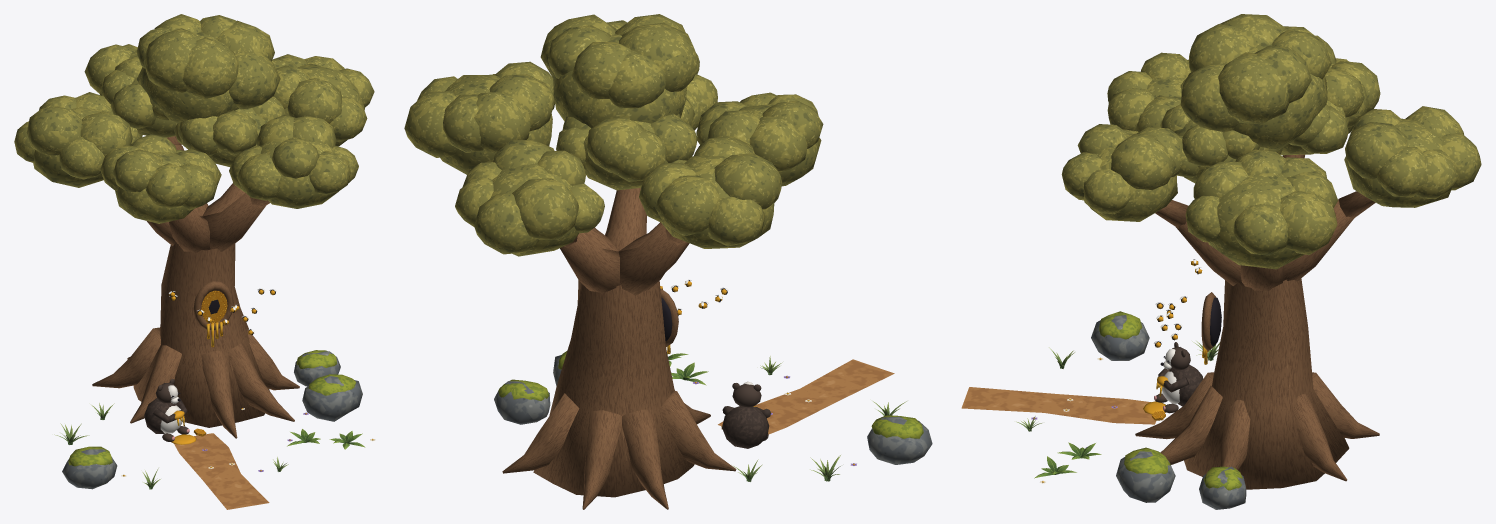
Rendered from ev15_hive.glb.
3 views of the same model, side by side, from view 1: azimuth 30°, elevation 25°; view 2: azimuth 150°, elevation 25°; view 3: azimuth 270°, elevation 25° (orthographic). The views are drawn at different scales.
Visible parts, largest first — view 1: ev15_hive_tree_crown, ev15_hive_tree_trunk, ev15_hive_ground_details, ev15_hive_hive, ev15_hive_animals, ev15_hive_plants; view 2: ev15_hive_tree_crown, ev15_hive_tree_trunk, ev15_hive_ground_details, ev15_hive_animals, ev15_hive_plants, ev15_hive_hive; view 3: ev15_hive_tree_crown, ev15_hive_tree_trunk, ev15_hive_ground_details, ev15_hive_animals, ev15_hive_hive, ev15_hive_plants.
Boxes of the visible parts, x1,y1,x2,y2 form: ev15_hive_tree_crown: (14,14,374,223); ev15_hive_tree_trunk: (92,136,299,438); ev15_hive_ground_details: (62,350,362,509); ev15_hive_hive: (168,281,276,444); ev15_hive_animals: (144,379,189,441); ev15_hive_plants: (54,403,375,489); ev15_hive_tree_crown: (404,14,823,256); ev15_hive_tree_trunk: (502,188,736,509); ev15_hive_ground_details: (494,351,932,464); ev15_hive_animals: (722,381,770,448); ev15_hive_plants: (667,353,906,481); ev15_hive_hive: (660,279,728,429); ev15_hive_tree_crown: (1061,14,1481,269); ev15_hive_tree_trunk: (1135,154,1379,489); ev15_hive_ground_details: (961,311,1246,509); ev15_hive_animals: (1154,342,1203,413); ev15_hive_hive: (1143,259,1221,420); ev15_hive_plants: (1016,341,1219,483).
Size of what is drawn, in the model's own units: 7.43 by 7.28 by 8.05.
16 materials, 16 textured.
